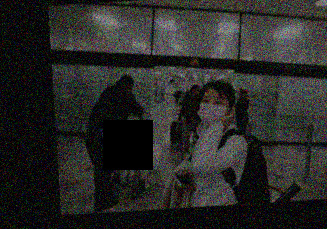with_mask: (196, 94, 228, 126)
